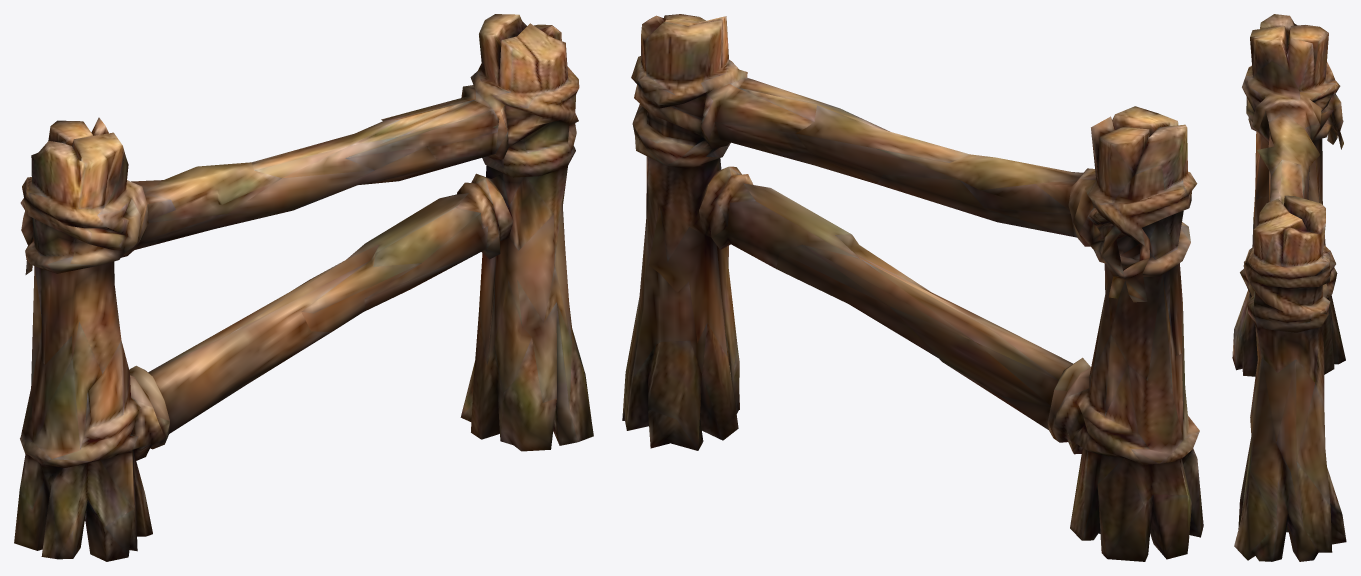
The model's file is prop-fence-rope-v2-mobile.glb.
3 views of the same model, side by side, from view 1: azimuth 30°, elevation 25°; view 2: azimuth 150°, elevation 25°; view 3: azimuth 270°, elevation 25° (orthographic). The views are drawn at different scales.
Visible parts, largest first — view 1: tripo_node_aa03e0cd-da52-4859-8077-0e12633ee987; view 2: tripo_node_aa03e0cd-da52-4859-8077-0e12633ee987; view 3: tripo_node_aa03e0cd-da52-4859-8077-0e12633ee987.
Boxes of the visible parts, bbox=[...] form: tripo_node_aa03e0cd-da52-4859-8077-0e12633ee987: bbox=[14, 14, 593, 561]; tripo_node_aa03e0cd-da52-4859-8077-0e12633ee987: bbox=[622, 14, 1203, 561]; tripo_node_aa03e0cd-da52-4859-8077-0e12633ee987: bbox=[1232, 14, 1346, 561].
Bounding box in the file's own units: 0.9785 × 0.6812 × 0.2095.
1 material, 1 textured.
